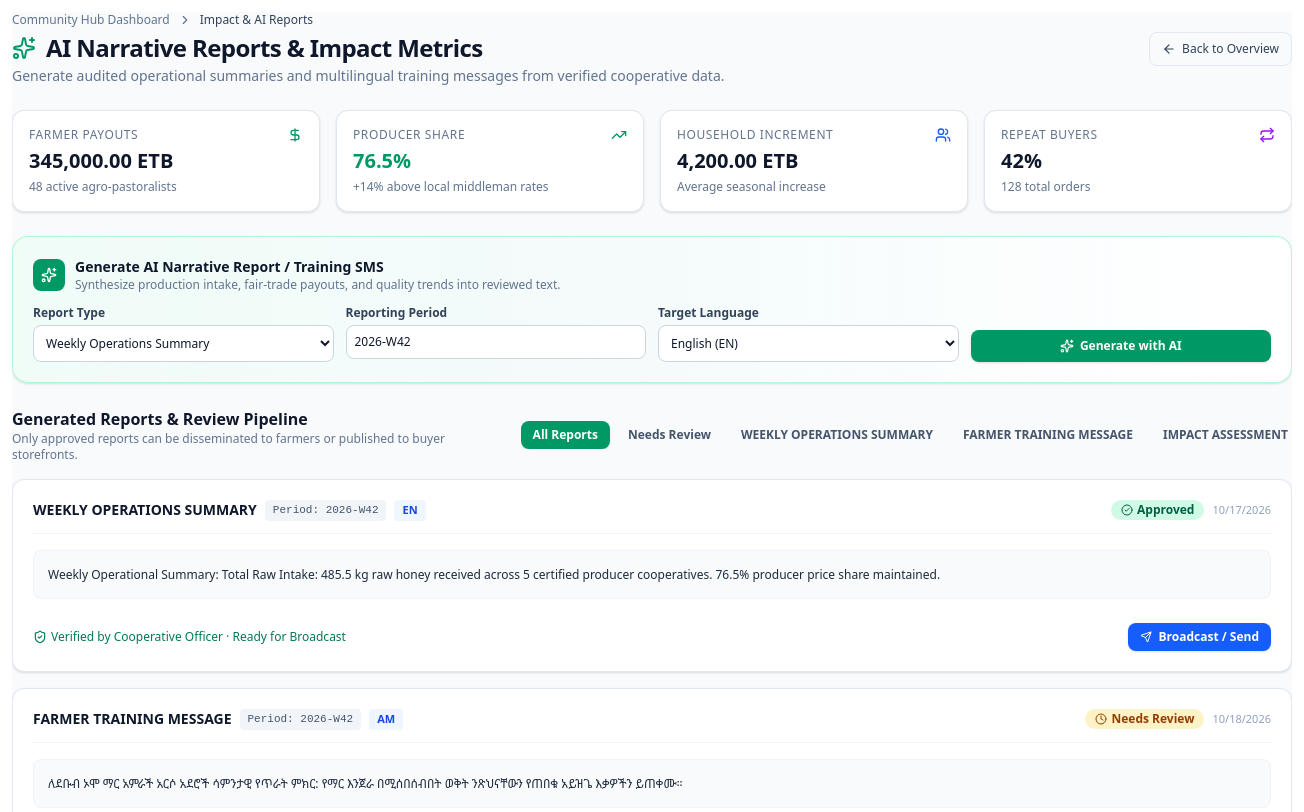
EnterpriseReportsPage Component (F-914) › filters reports by Needs Review filter tab
expect the element with test id "report-card-rep-001" is shown: met, box [12,479,1292,672]
Click the button with test id "filter-needs_review" at (670, 435), box [616,421,723,449]
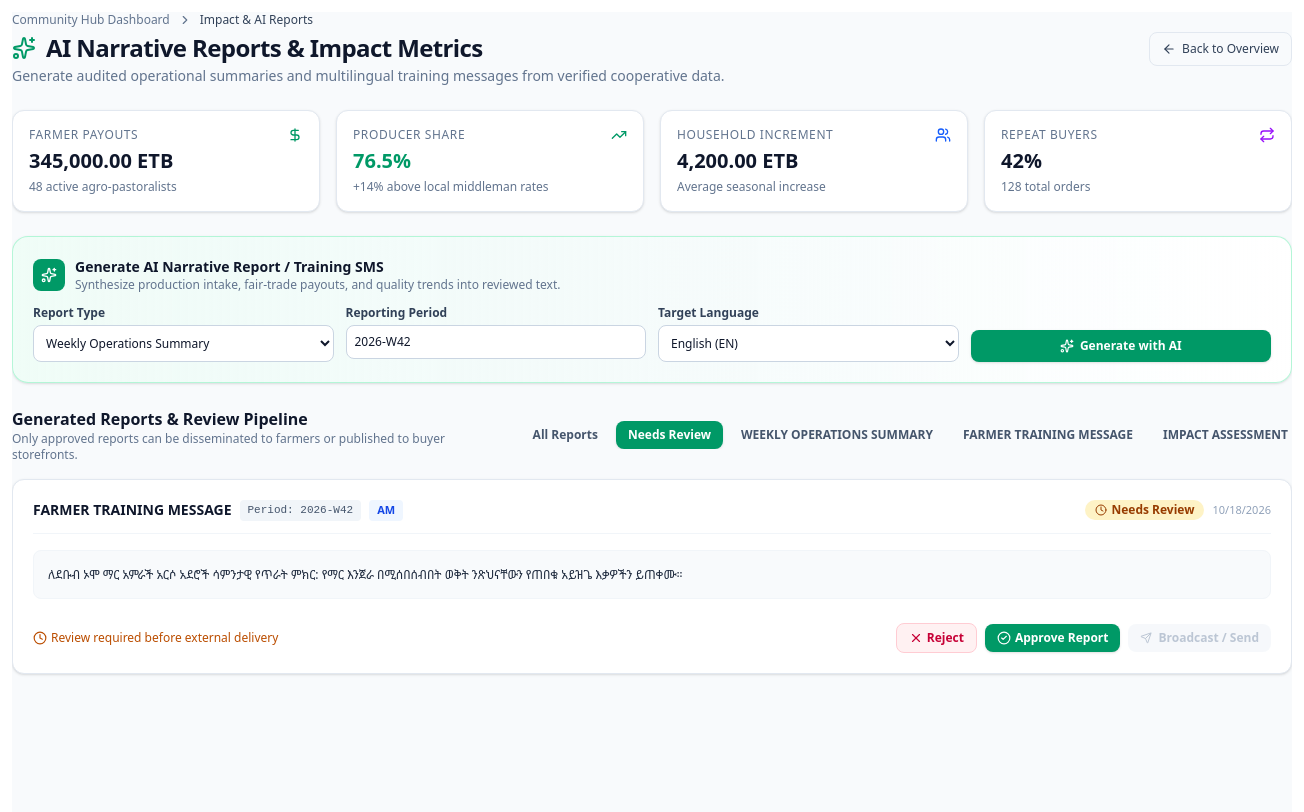
expect the element with test id "report-card-rep-002" is shown: met, box [12,479,1292,674]
expect the element with test id "report-card-rep-001" is gone: met
Note: Click All Reports to restore
Click the button with test id "filter-all" at (565, 435), box [521,421,610,449]
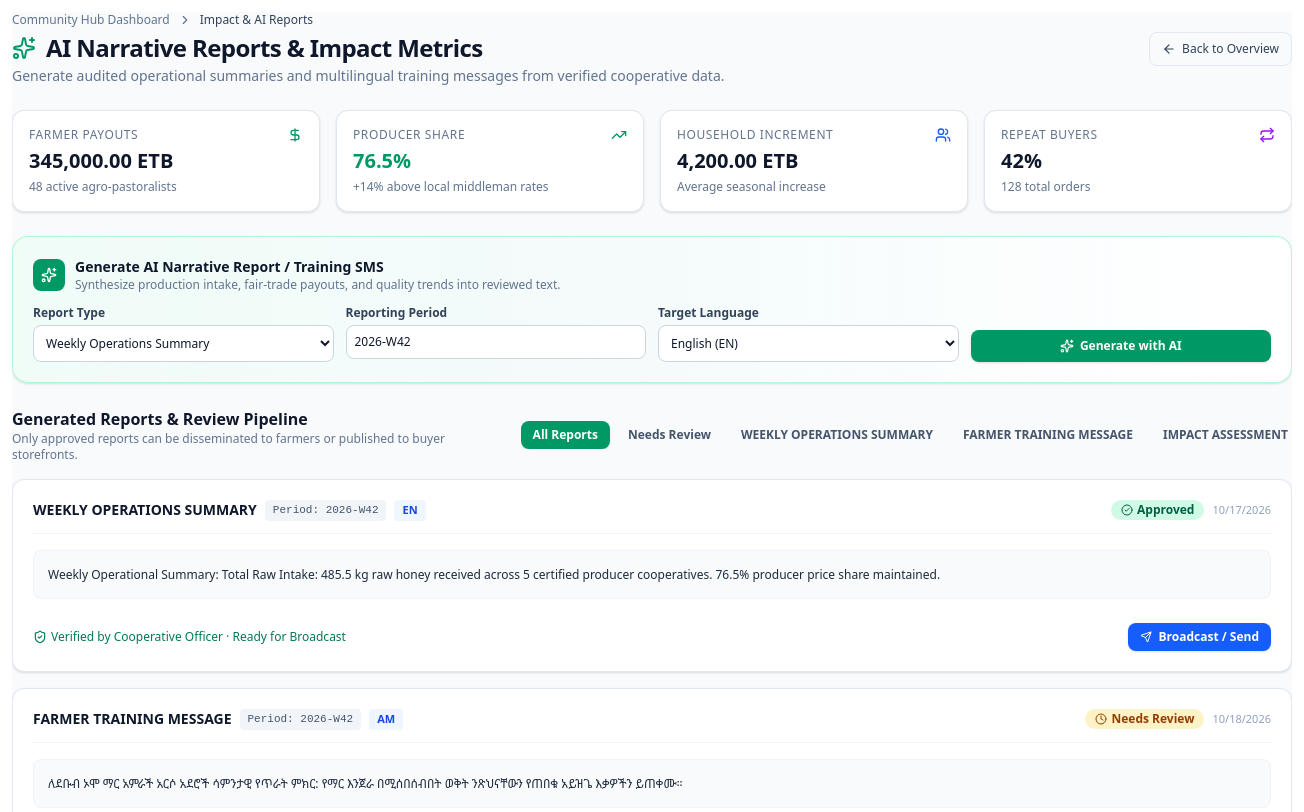
expect the element with test id "report-card-rep-001" is shown: met, box [12,479,1292,672]
